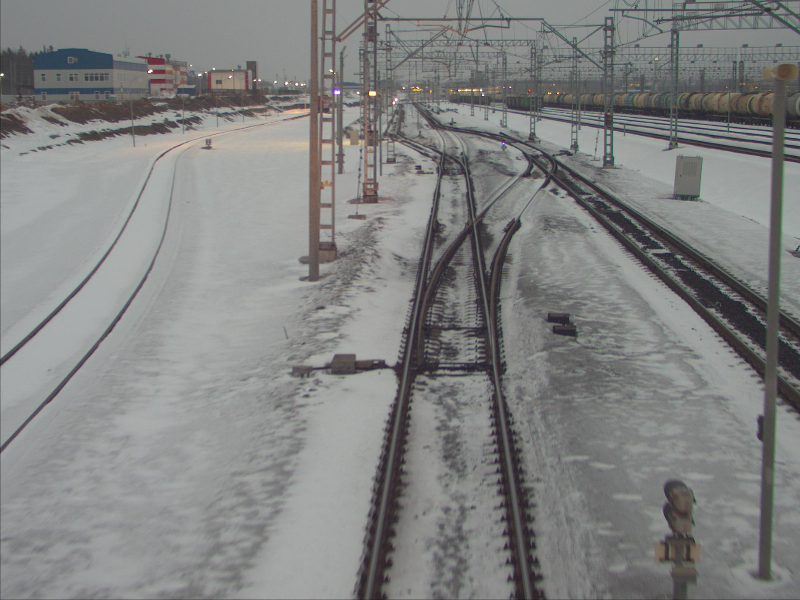left: (408, 210, 497, 371)
